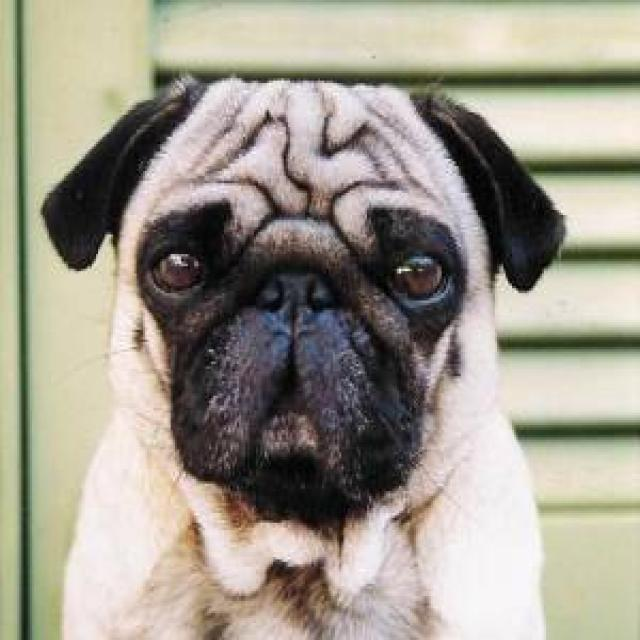dog-pug: (36, 76, 572, 635)
